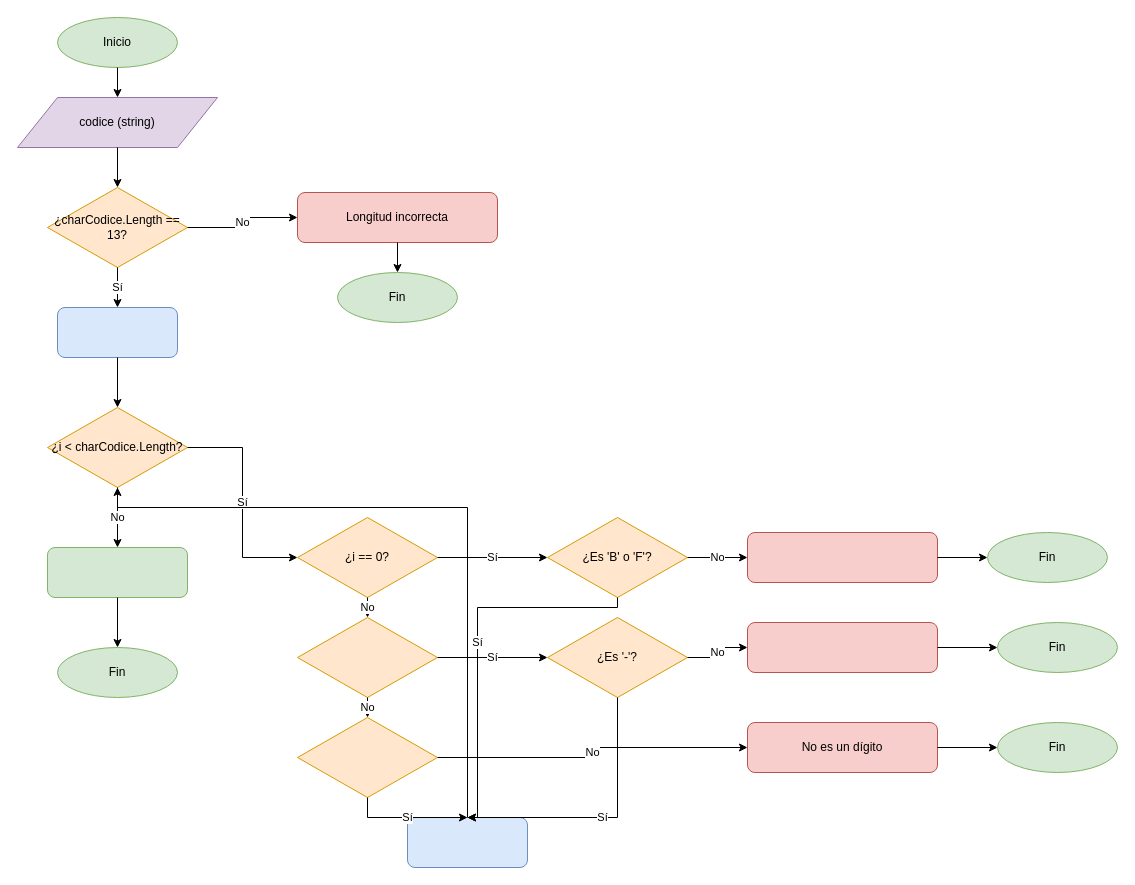
Image size: 1135x885. Some labels were removed from this diagram. The centre of each missing label's shape, as x and y in pixels:
"i = 0" belongs at (x=117, y=332).
"i++" belongs at (x=467, y=842).
"Posición del '-' no válida" belongs at (x=842, y=647).
"Primer caracter no válido" belongs at (x=842, y=557).
"return true" belongs at (x=117, y=572).
"¿Es dígito?" belongs at (x=367, y=757).
"¿i == 4?" belongs at (x=367, y=657).
